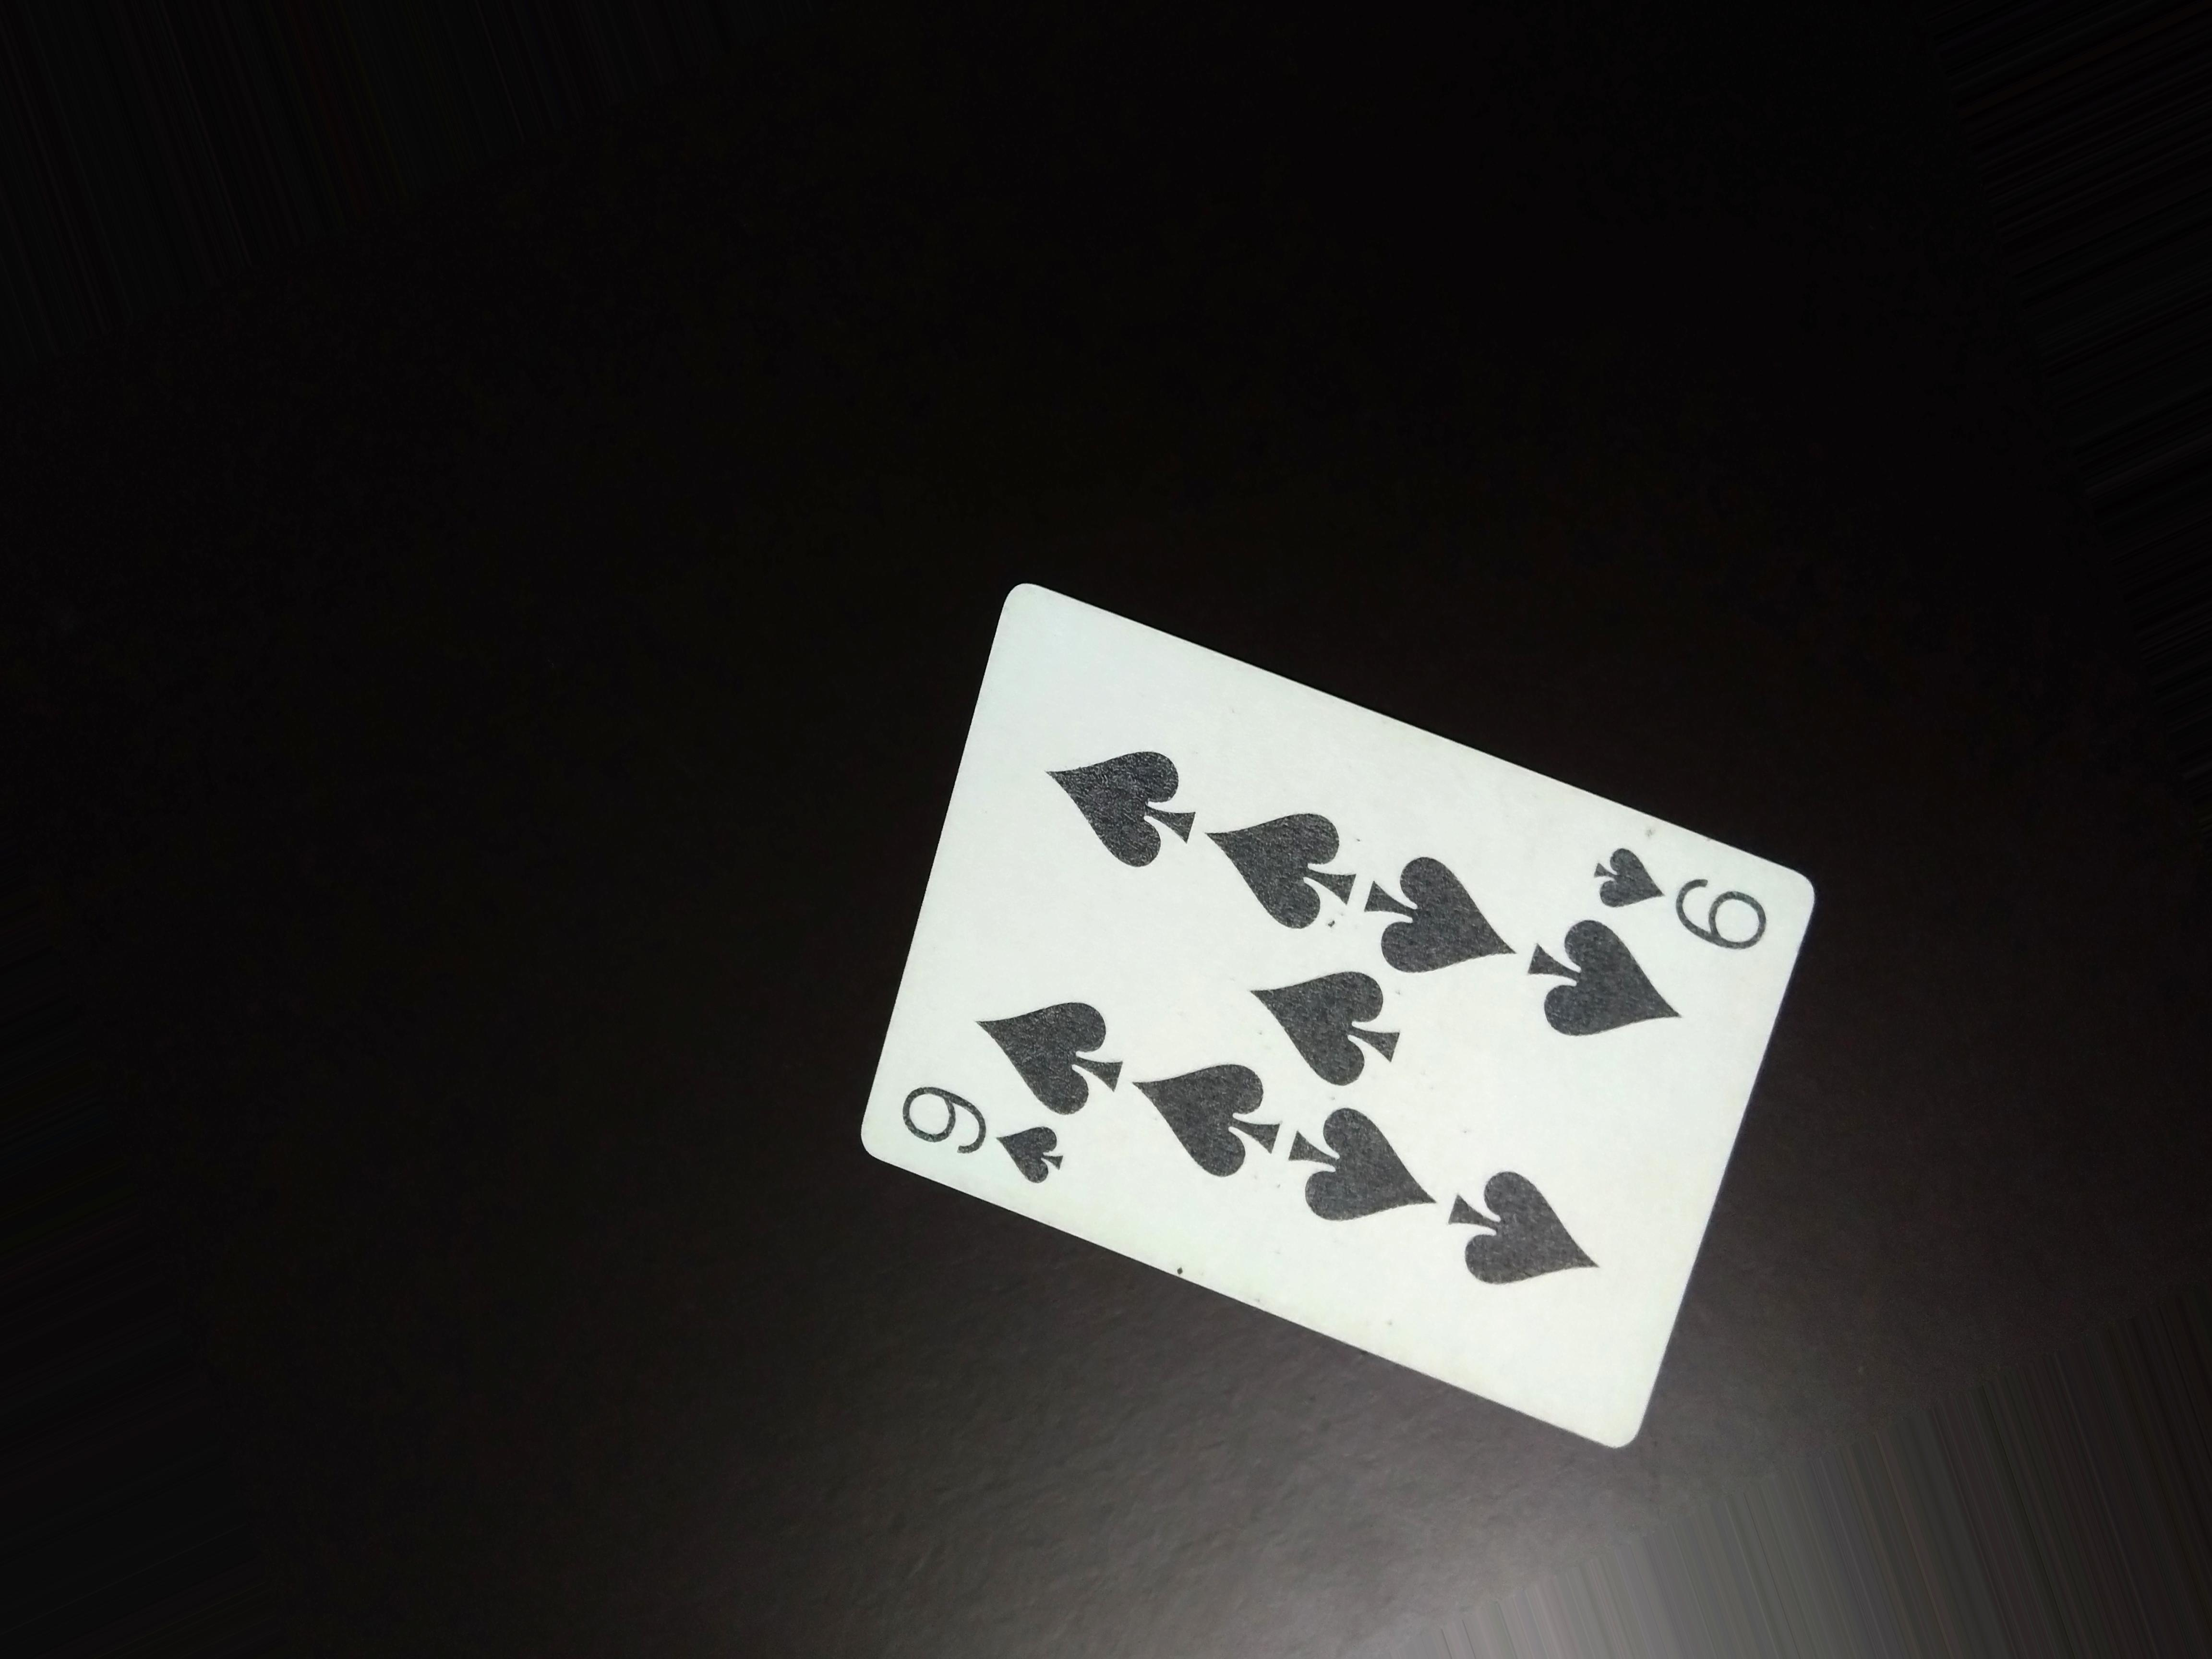9S: (1575, 840, 1818, 943)
